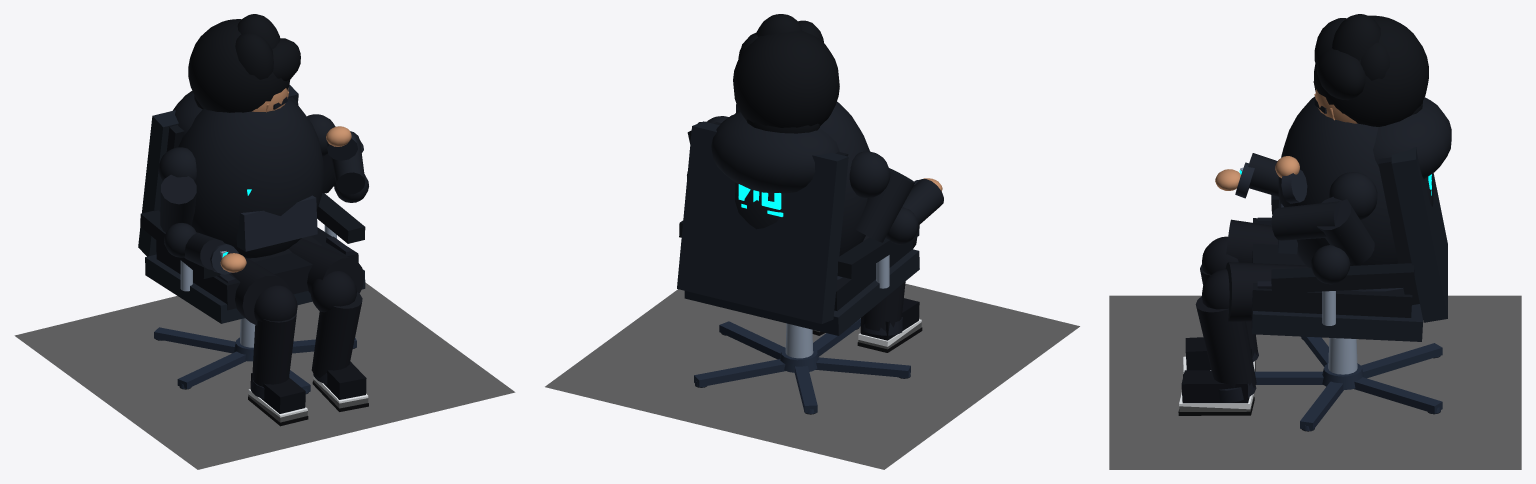
Rendered from developer-character.glb.
The picture shows the model from 3 angles, left to right: view 1: azimuth 30°, elevation 25°; view 2: azimuth 150°, elevation 25°; view 3: azimuth 270°, elevation 25°; orthographic projection. The views are drawn at different scales.
Parts seen in each view (by area): view 1: FloorContactShadow, HoodieBody, HairMain, SeatCushion, KangarooPocket, R_Shin, L_Shin, BackrestShell, SeatShell, R_Thigh, L_Bicep, L_Thigh (+18 smaller); view 2: FloorContactShadow, BackrestShell, HairMain, HoodCollar, HoodieBody, SeatShell, L_Bicep, L_Shoulder, LeftArmrest, ChairLeg_4, ChairLeg_2, SeatCushion (+9 smaller); view 3: FloorContactShadow, HoodieBody, BackrestShell, HairMain, SeatCushion, SeatShell, HoodCollar, R_Shin, RightArmrest, R_Forearm, R_Thigh, R_Bicep (+25 smaller).
Boxes of the visible parts, <box> form: FloorContactShadow: <box>15,282,514,469</box>; HoodieBody: <box>178,97,323,258</box>; HairMain: <box>188,19,289,112</box>; SeatCushion: <box>156,227,358,310</box>; KangarooPocket: <box>236,195,317,251</box>; R_Shin: <box>311,292,362,377</box>; L_Shin: <box>252,311,296,386</box>; BackrestShell: <box>138,84,298,256</box>; SeatShell: <box>145,254,365,323</box>; R_Thigh: <box>289,238,363,293</box>; L_Bicep: <box>160,174,196,232</box>; L_Thigh: <box>231,257,289,325</box>; FloorContactShadow: <box>545,284,1079,469</box>; BackrestShell: <box>677,121,848,323</box>; HairMain: <box>733,30,839,127</box>; HoodCollar: <box>711,112,839,193</box>; HoodieBody: <box>735,101,869,256</box>; SeatShell: <box>684,249,919,335</box>; L_Bicep: <box>855,168,915,242</box>; L_Shoulder: <box>849,151,890,198</box>; LeftArmrest: <box>837,225,919,278</box>; ChairLeg_4: <box>815,357,910,377</box>; ChairLeg_2: <box>694,359,785,387</box>; SeatCushion: <box>834,240,912,310</box>; FloorContactShadow: <box>1109,295,1521,469</box>; HoodieBody: <box>1278,96,1433,267</box>; BackrestShell: <box>1391,147,1447,322</box>; HairMain: <box>1313,15,1428,126</box>; SeatCushion: <box>1251,218,1412,317</box>; SeatShell: <box>1252,304,1422,341</box>; HoodCollar: <box>1373,97,1451,178</box>; R_Shin: <box>1195,296,1256,387</box>; RightArmrest: <box>1271,263,1414,293</box>; R_Forearm: <box>1271,201,1341,240</box>; R_Thigh: <box>1225,262,1308,321</box>; R_Bicep: <box>1317,196,1374,265</box>.
Size of the model in its own units: 1.5 by 1.53 by 1.5.
